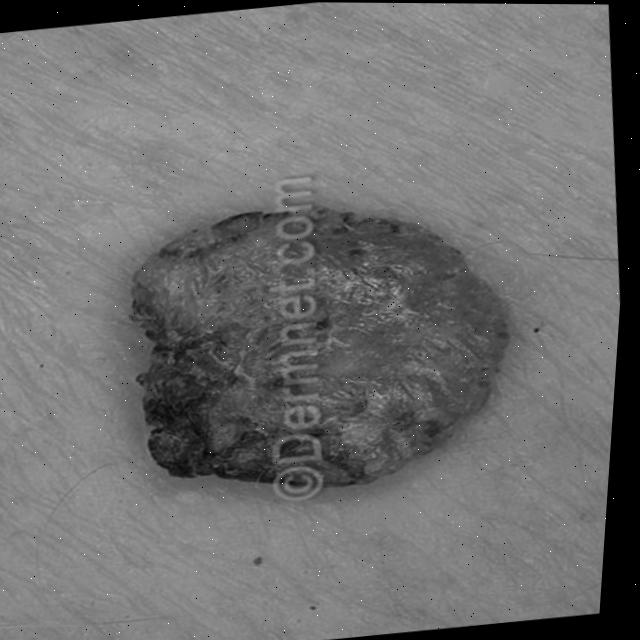Eczema: (73, 180, 557, 562)
